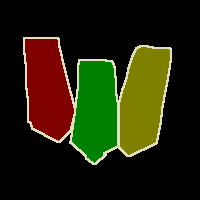tie: (118, 45, 171, 156), (24, 38, 75, 142), (70, 59, 118, 164)
